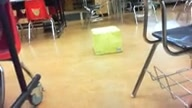cube: (91, 25, 123, 55)
